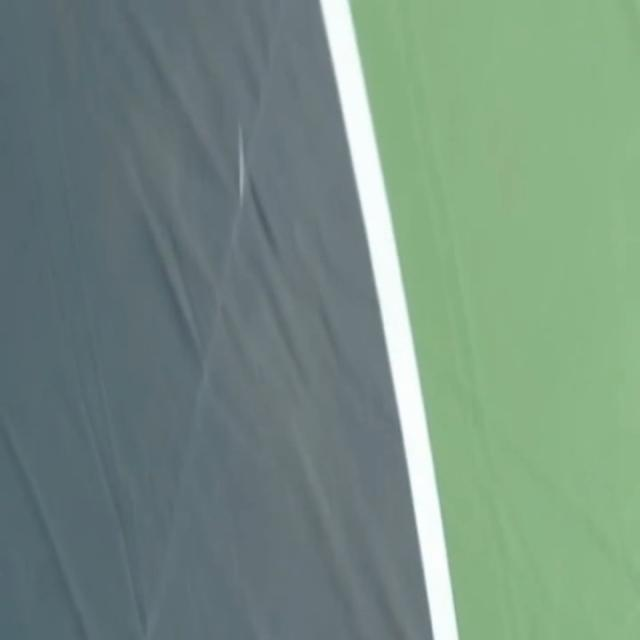right: (319, 0, 458, 639)
